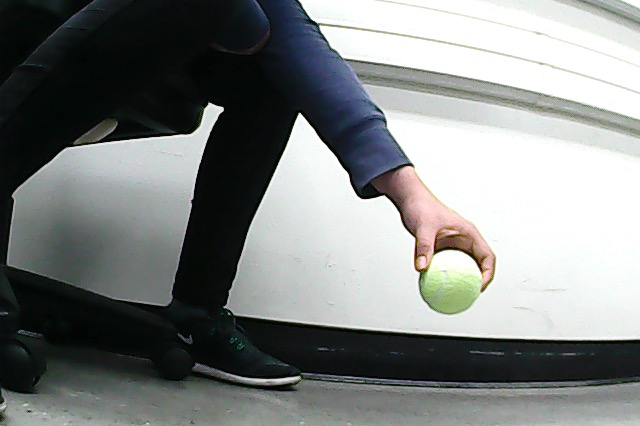ball: (420, 249, 482, 316)
